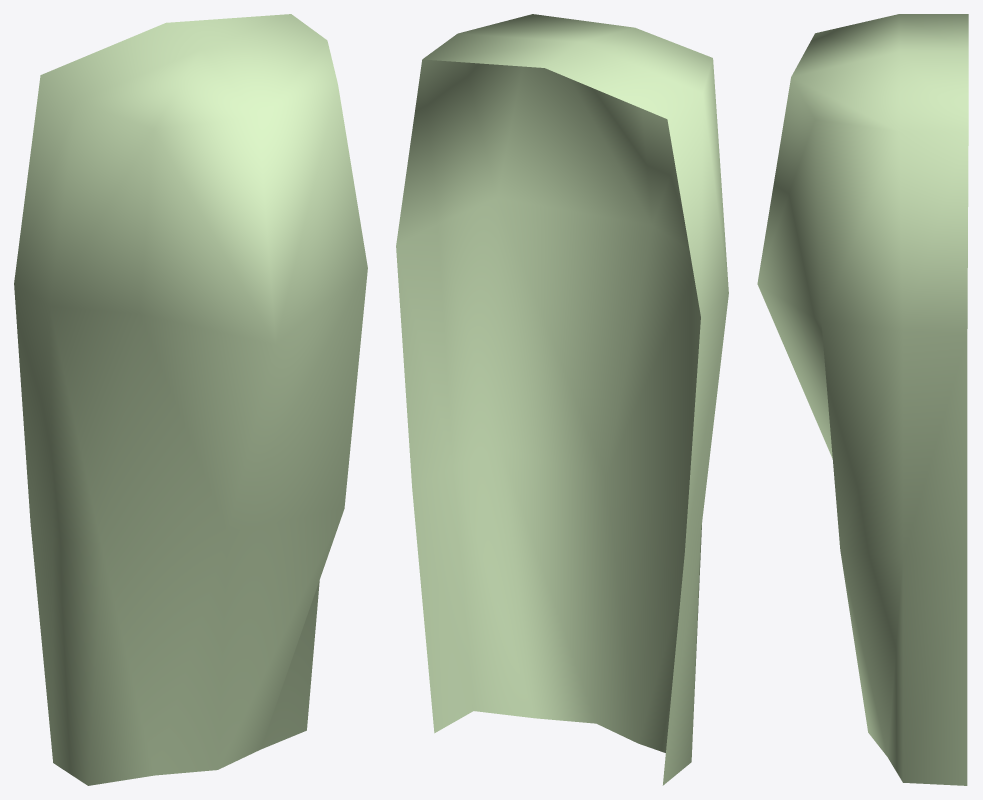
3 views of the same model, side by side, from view 1: azimuth 30°, elevation 25°; view 2: azimuth 150°, elevation 25°; view 3: azimuth 270°, elevation 25° (orthographic). The views are drawn at different scales.
Visible parts, largest first — view 1: Object40; view 2: Object40; view 3: Object40.
Part boxes in pixels (left/top/right/bottom): Object40: left=14, top=14, right=367, bottom=785; Object40: left=396, top=14, right=728, bottom=785; Object40: left=757, top=14, right=968, bottom=785.
Size of the model in its own units: 152 by 334 by 93.78.
